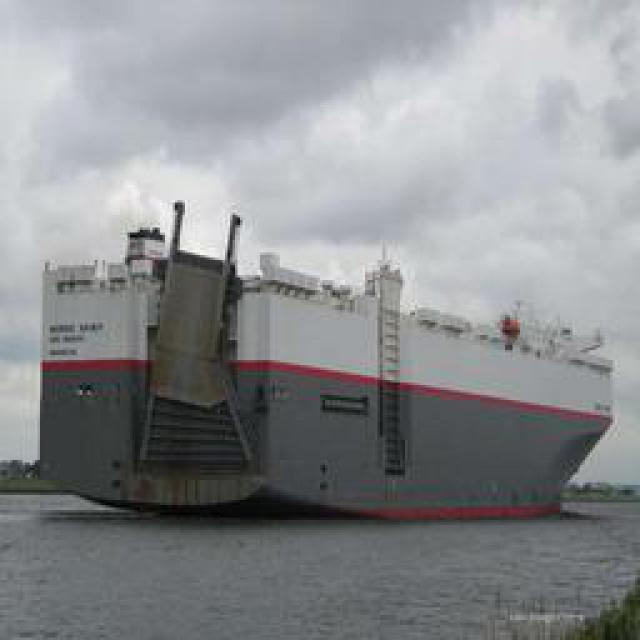Ship: (49, 210, 624, 528)
